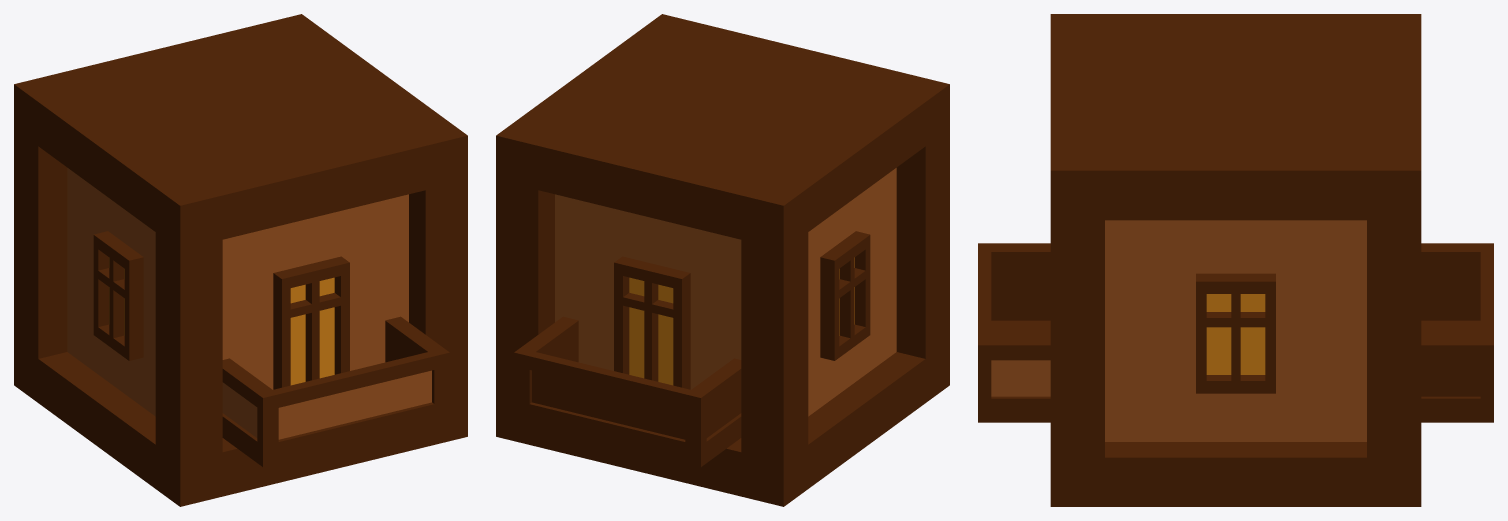
Rendered from City1House5.fbx.
The picture shows the model from 3 angles, left to right: view 1: azimuth 30°, elevation 25°; view 2: azimuth 150°, elevation 25°; view 3: azimuth 270°, elevation 25°; orthographic projection. The views are drawn at different scales.
Visible parts, largest first — view 1: Cube.029; view 2: Cube.029; view 3: Cube.029.
Part boxes in pixels (x1,y1,x2,y2): Cube.029: [14, 14, 467, 506]; Cube.029: [496, 14, 949, 506]; Cube.029: [978, 14, 1493, 506].
Size of the model in its own units: 100 by 100 by 139.
